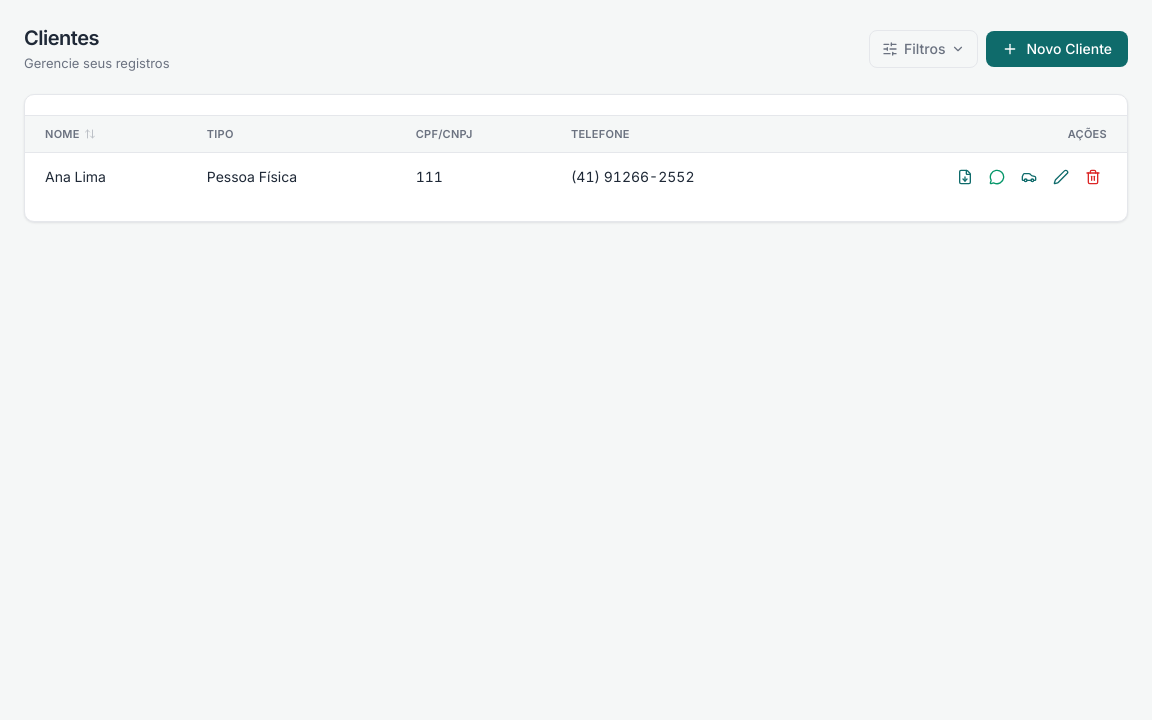
Test: <ClientList> › abre o modal com os veículos do cliente e fecha
Expected: the text "Ana Lima" is shown, [25,152,187,201]
Step 1. Click the button named "ver veículos do cliente" → (1029, 177), box [1015,163,1043,191]
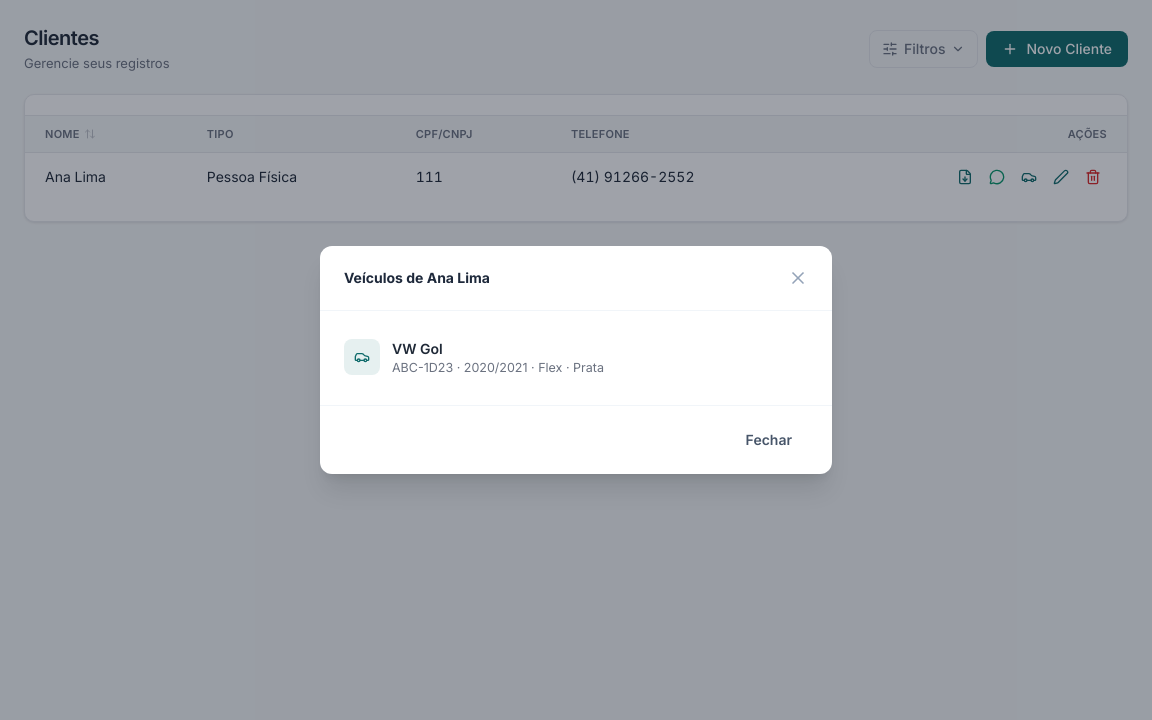
Expected: the dialog "Veículos de Ana Lima" is shown, [320,246,832,474]
Expected: the text "VW Gol" is shown, [392,340,443,357]
Expected: the text "ABC-1D23 · 2020/2021 · Flex · Prata" is shown, [392,359,604,377]
Step 2. Click the button "Fechar" → (769, 440), box [730,422,808,458]
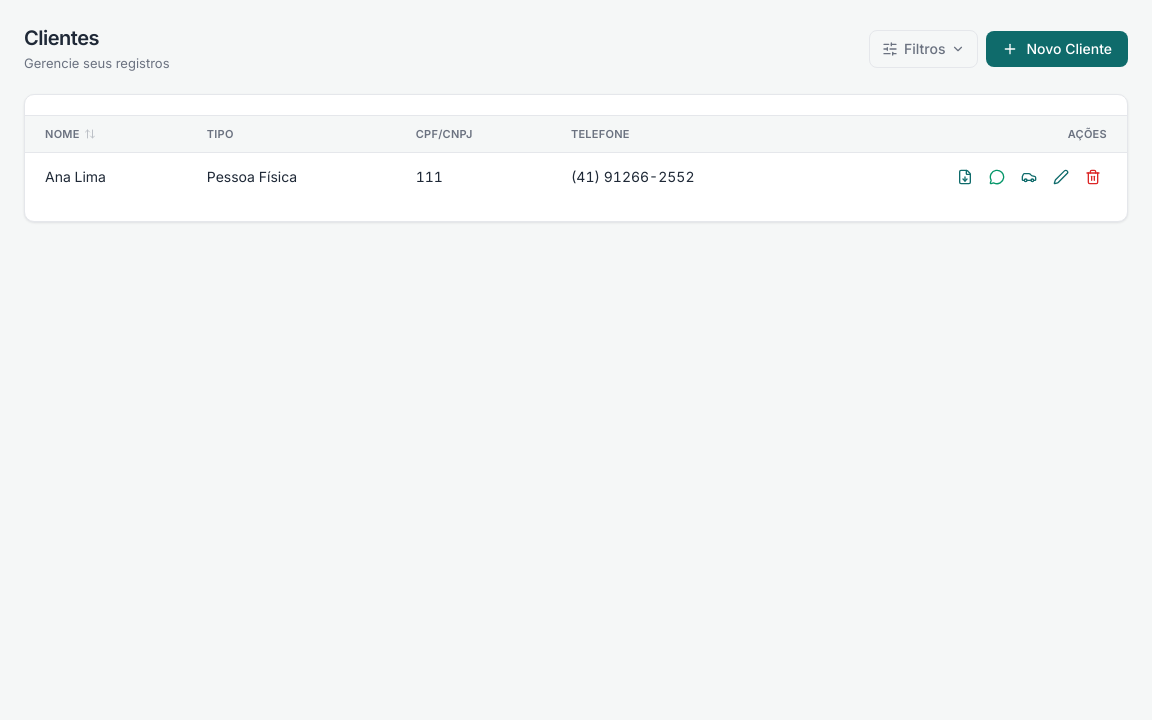
Expected: the dialog is gone
